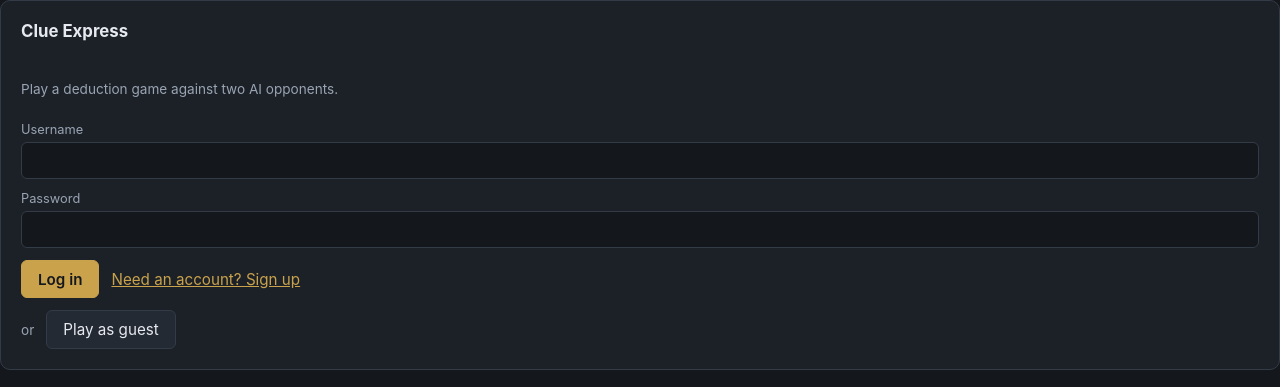
Scenario: LandingScreen › defaults to login mode and toggles to signup
The image size is (1280, 387).
Expected: the button "Log in" is shown, [21,260,99,298]
Step 1. Click the button "Need an account? Sign up" → coordinates (206, 279), box [111,270,300,288]
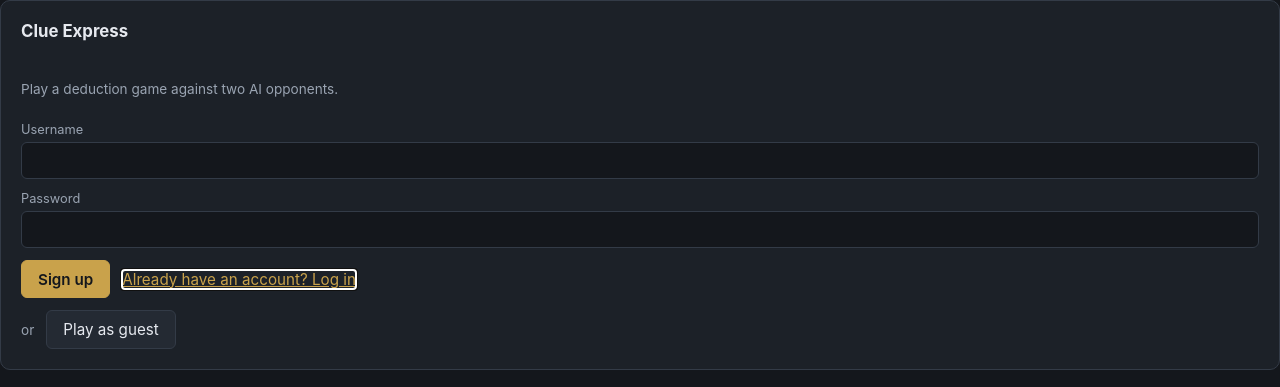
Now the button "Sign up" is shown, box [21,260,110,298]
